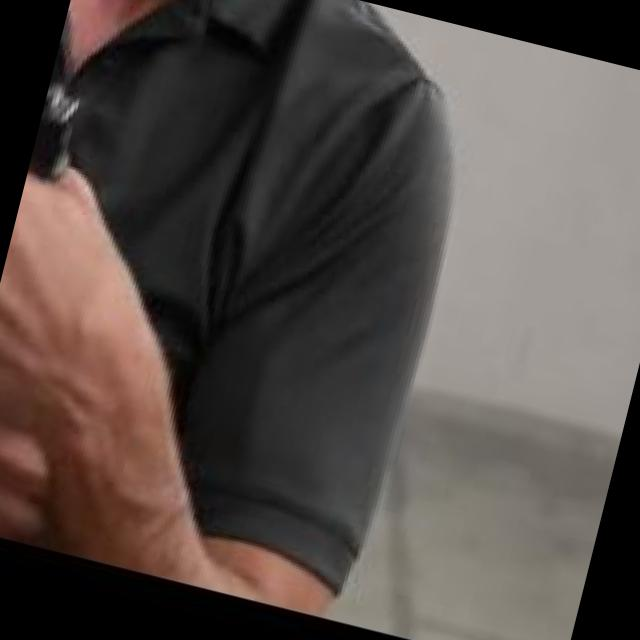Guns: (1, 48, 122, 293)
